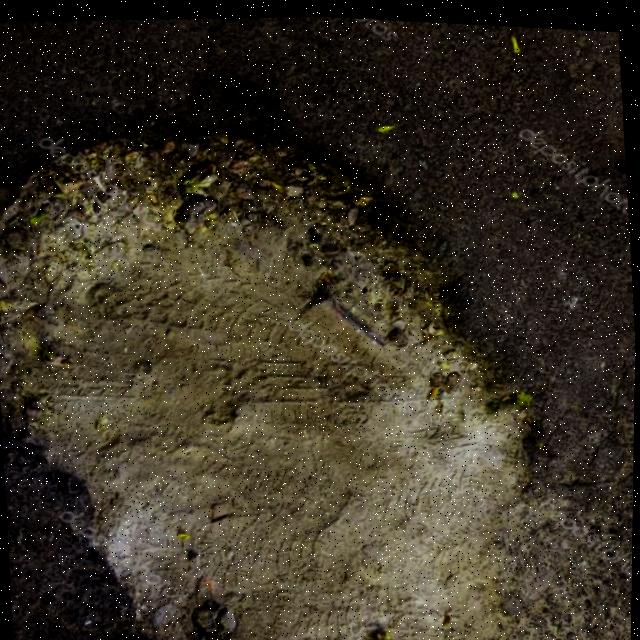Pothole: (0, 76, 621, 640)
